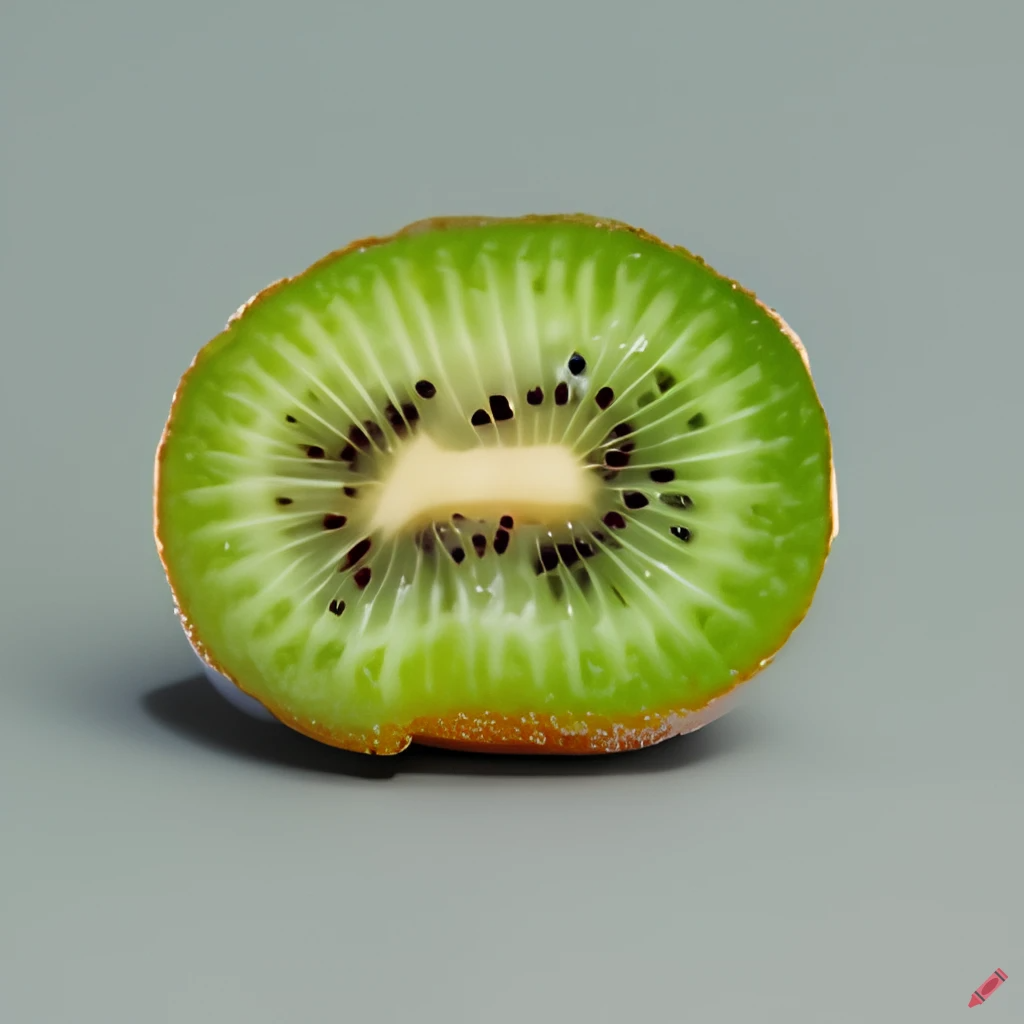Kiwi: (111, 195, 846, 842)
